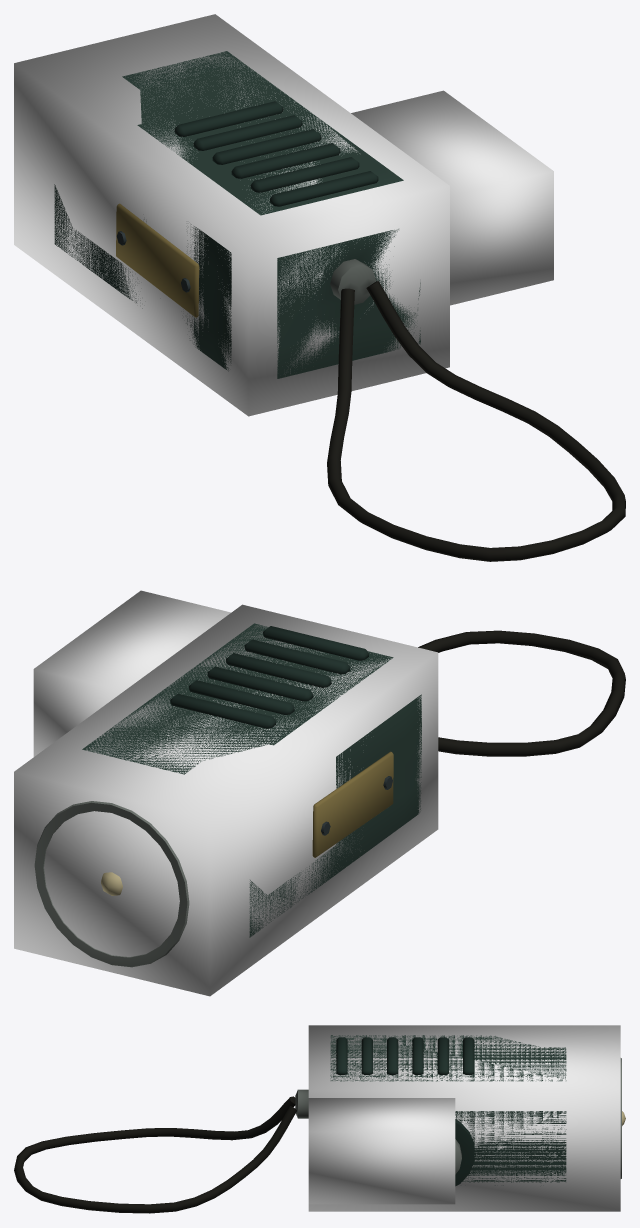
Rendered from linterna_dinamo.glb.
3 views of the same model, one above another, from view 1: azimuth 30°, elevation 25°; view 2: azimuth 150°, elevation 25°; view 3: azimuth 270°, elevation 25° (orthographic). The views are drawn at different scales.
Visible parts, largest first — view 1: linterna_dinamo-colcaja, cuerpo, linterna_dinamo_manivela-colcaja; view 2: linterna_dinamo-colcaja, cuerpo, linterna_dinamo_manivela-colcaja; view 3: linterna_dinamo-colcaja, cuerpo, linterna_dinamo_manivela-colcaja.
Part boxes in pixels (x1,y1,x2,y2): linterna_dinamo-colcaja: (14,14,449,416); cuerpo: (54,51,625,561); linterna_dinamo_manivela-colcaja: (351,90,553,305); linterna_dinamo-colcaja: (14,604,438,996); cuerpo: (34,623,625,967); linterna_dinamo_manivela-colcaja: (33,590,230,756); linterna_dinamo-colcaja: (308,1025,620,1211); cuerpo: (14,1035,621,1213); linterna_dinamo_manivela-colcaja: (308,1098,455,1204).
Size of the model in its own units: 0.0967 by 0.0522 by 0.2295.
